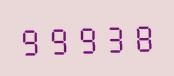eight: (126, 18, 152, 53)
nine: (18, 22, 44, 57), (45, 21, 71, 56), (72, 20, 98, 55)
three: (99, 19, 125, 54)
